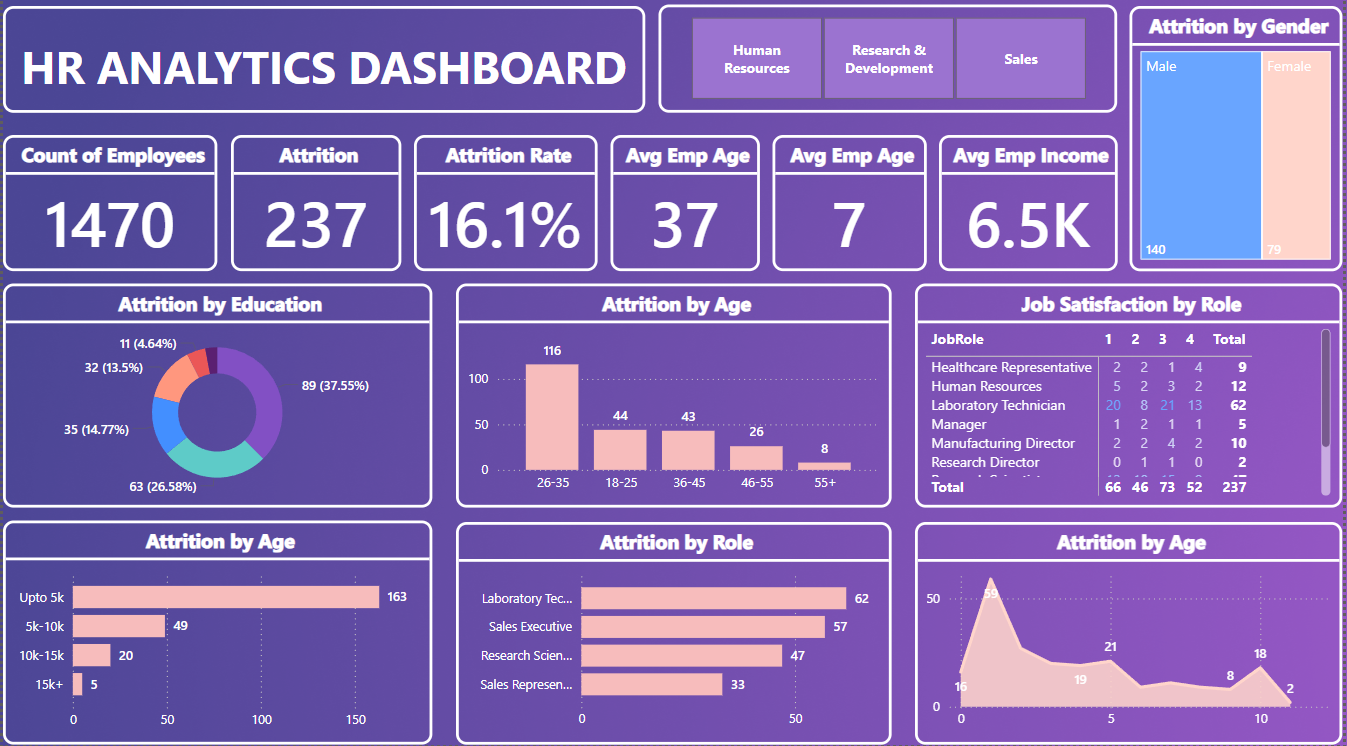

What the dashboard file says about the page in this screenshot:
{"tool":"powerbi","page":{"name":"Page 1","canvas":[1280,720],"ordinal":0},"visuals":[{"type":"card","title":"Count of Employees","fields":{"Values":["CountNonNull(HR_Analytics.EmpID)"]},"box":[0,137.6,204.9,129.8],"z":0},{"type":"card","title":"Attrition Rate","fields":{"Values":["HR_Analytics.Attrition Rate"]},"box":[392.6,137.6,175.2,129.8],"z":1000},{"type":"card","title":"Attrition","fields":{"Values":["Sum(HR_Analytics.AttritionCount)"]},"box":[217.4,137.6,162.7,129.8],"z":2000},{"type":"card","title":"Avg Emp Age","fields":{"Values":["Avg(HR_Analytics.Age)"]},"box":[580.3,137.6,142.3,129.8],"z":3000},{"type":"card","title":"Avg Emp Income","fields":{"Values":["Avg(HR_Analytics.MonthlyIncome)"]},"box":[893.1,137.6,170.5,129.8],"z":4000},{"type":"card","title":"Avg Emp Age","fields":{"Values":["Avg(HR_Analytics.YearsAtCompany)"]},"box":[735.2,137.6,147,129.8],"z":5000},{"type":"donutChart","title":"Attrition by Education","fields":{"Y":["Sum(HR_Analytics.AttritionCount)"],"Category":["HR_Analytics.EducationField"]},"box":[0,280,409.8,214.3],"z":6000},{"type":"columnChart","title":"Attrition by Age","fields":{"Category":["HR_Analytics.AgeGroup"],"Y":["Sum(HR_Analytics.AttritionCount)"]},"box":[433.3,280,416.1,214.3],"z":7000},{"type":"pivotTable","title":"Job Satisfaction by Role","fields":{"Rows":["HR_Analytics.JobRole"],"Columns":["HR_Analytics.JobSatisfaction"],"Values":["Sum(HR_Analytics.AttritionCount)"]},"box":[871.2,280,408.2,214.3],"z":8000},{"type":"barChart","title":"Attrition by Age","fields":{"Category":["HR_Analytics.SalarySlab"],"Y":["Sum(HR_Analytics.AttritionCount)"]},"box":[0,505.2,409.8,214.3],"z":8001},{"type":"barChart","title":"Attrition by Role","fields":{"Category":["HR_Analytics.JobRole"],"Y":["Sum(HR_Analytics.AttritionCount)"]},"box":[432.5,506.8,416.1,212.7],"z":8003},{"type":"areaChart","title":"Attrition by Age","fields":{"Category":["HR_Analytics.YearsAtCompany"],"Y":["Sum(HR_Analytics.AttritionCount)"]},"box":[871.2,506.8,408.2,212.7],"z":8004},{"type":"treemap","title":"Attrition by Gender","fields":{"Group":["HR_Analytics.Gender"],"Values":["Sum(HR_Analytics.AttritionCount)"]},"box":[1076.1,14.1,203.3,253.4],"z":8005},{"type":"slicer","fields":{"Values":["HR_Analytics.Department"]},"box":[625.7,12.5,438,103.2],"z":8006},{"type":"textbox","box":[0,14.1,613.1,101.7],"z":8007}]}

Visuals, with their boxes in screenshot pixels (x1, y1, x2, y2), scaled from the page's 1280x720 canvas onto the 1347x746 screenshot:
"Count of Employees" card: crop(0, 143, 216, 277)
"Attrition Rate" card: crop(413, 143, 598, 277)
"Attrition" card: crop(229, 143, 400, 277)
"Avg Emp Age" card: crop(611, 143, 760, 277)
"Avg Emp Income" card: crop(940, 143, 1119, 277)
"Avg Emp Age" card: crop(774, 143, 928, 277)
"Attrition by Education" donutChart: crop(0, 290, 431, 512)
"Attrition by Age" columnChart: crop(456, 290, 894, 512)
"Job Satisfaction by Role" pivotTable: crop(917, 290, 1346, 512)
"Attrition by Age" barChart: crop(0, 523, 431, 745)
"Attrition by Role" barChart: crop(455, 525, 893, 745)
"Attrition by Age" areaChart: crop(917, 525, 1346, 745)
"Attrition by Gender" treemap: crop(1132, 15, 1346, 277)
slicer - HR_Analytics.Department: crop(658, 13, 1119, 120)
textbox: crop(0, 15, 645, 120)
